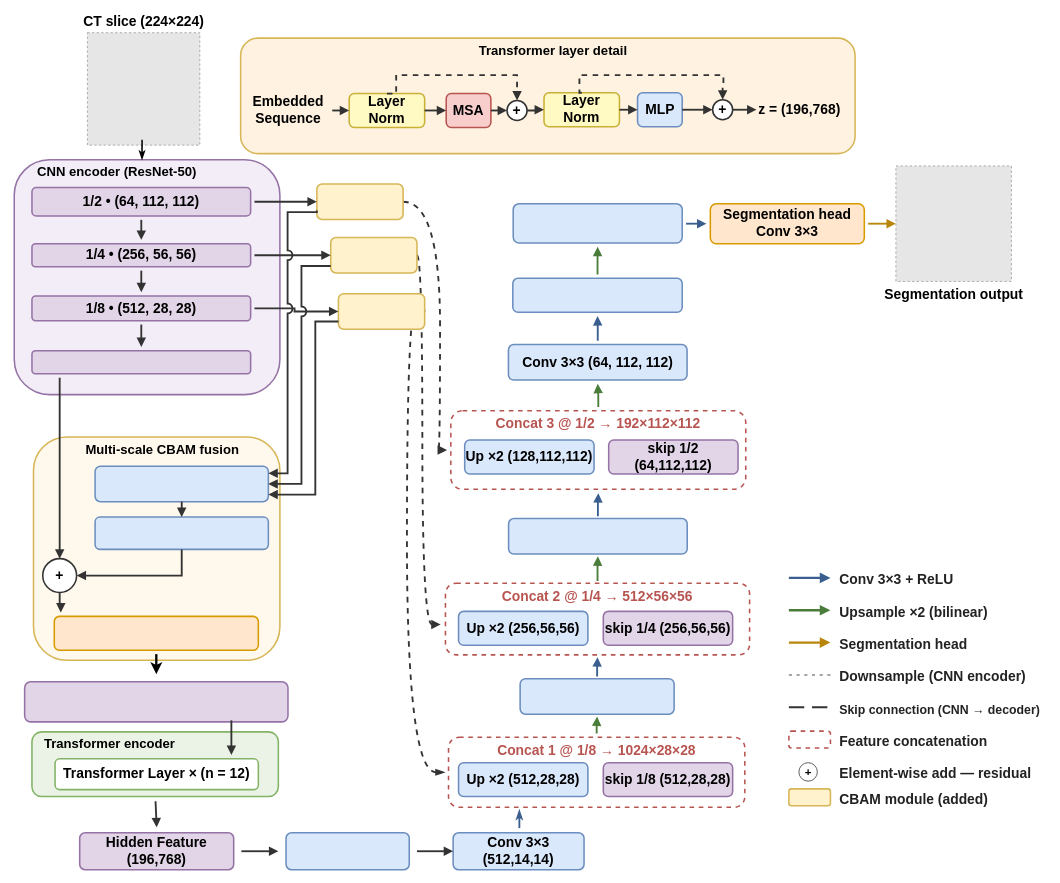
Some shapes in this 1060 by 883 pixel diagram are drawn without their labels. Grey dashed boxes stand in for pictures. The shapes that lost their labels are listed below. From the top down, each one's centre as x and y in pixels, then its label:
At [359,201]: "CBAM 1/2".
At [597,223]: "Conv 3×3 (16, 224, 224)".
At [373,254]: "CBAM 1/4".
At [381,311]: "CBAM 1/8".
At [597,295]: "Up ×2 (64, 224, 224)".
At [141,362]: "1/16 • F (1024, 14, 14)".
At [181,483]: "Proj 1×1 + BN + ReLU → (1024, 14, 14)".
At [181,533]: "Weighted mean (learnable α)".
At [597,535]: "Conv 3×3 (128, 56, 56)".
At [156,633]: "Fused hidden feature h′ (1024, 14, 14)".
At [155,701]: "Linear Projection (Patch Embedding)".
At [597,696]: "Conv 3×3 (256, 28, 28)".
At [347,851]: "Reshape (768,14,14)".
